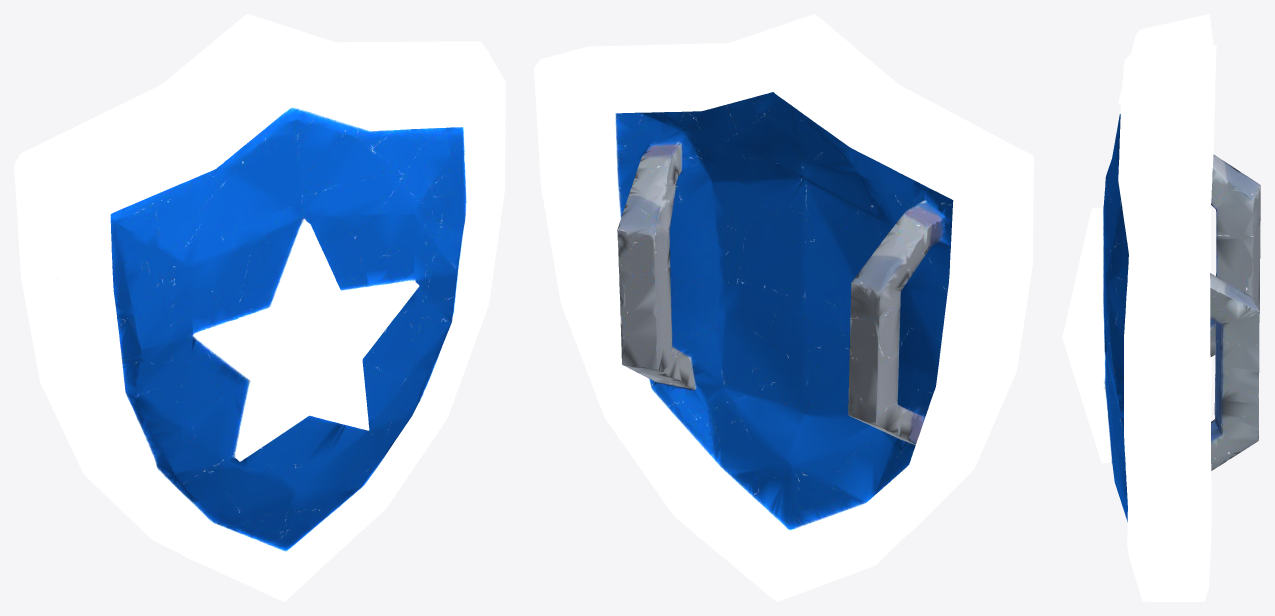
File: shield.glb
3 views of the same model, side by side, from view 1: azimuth 30°, elevation 25°; view 2: azimuth 150°, elevation 25°; view 3: azimuth 270°, elevation 25° (orthographic). The views are drawn at different scales.
Size of the model in its own units: 1.67 by 1.9 by 0.6134.
Materials: 1 (1 with a texture image).
